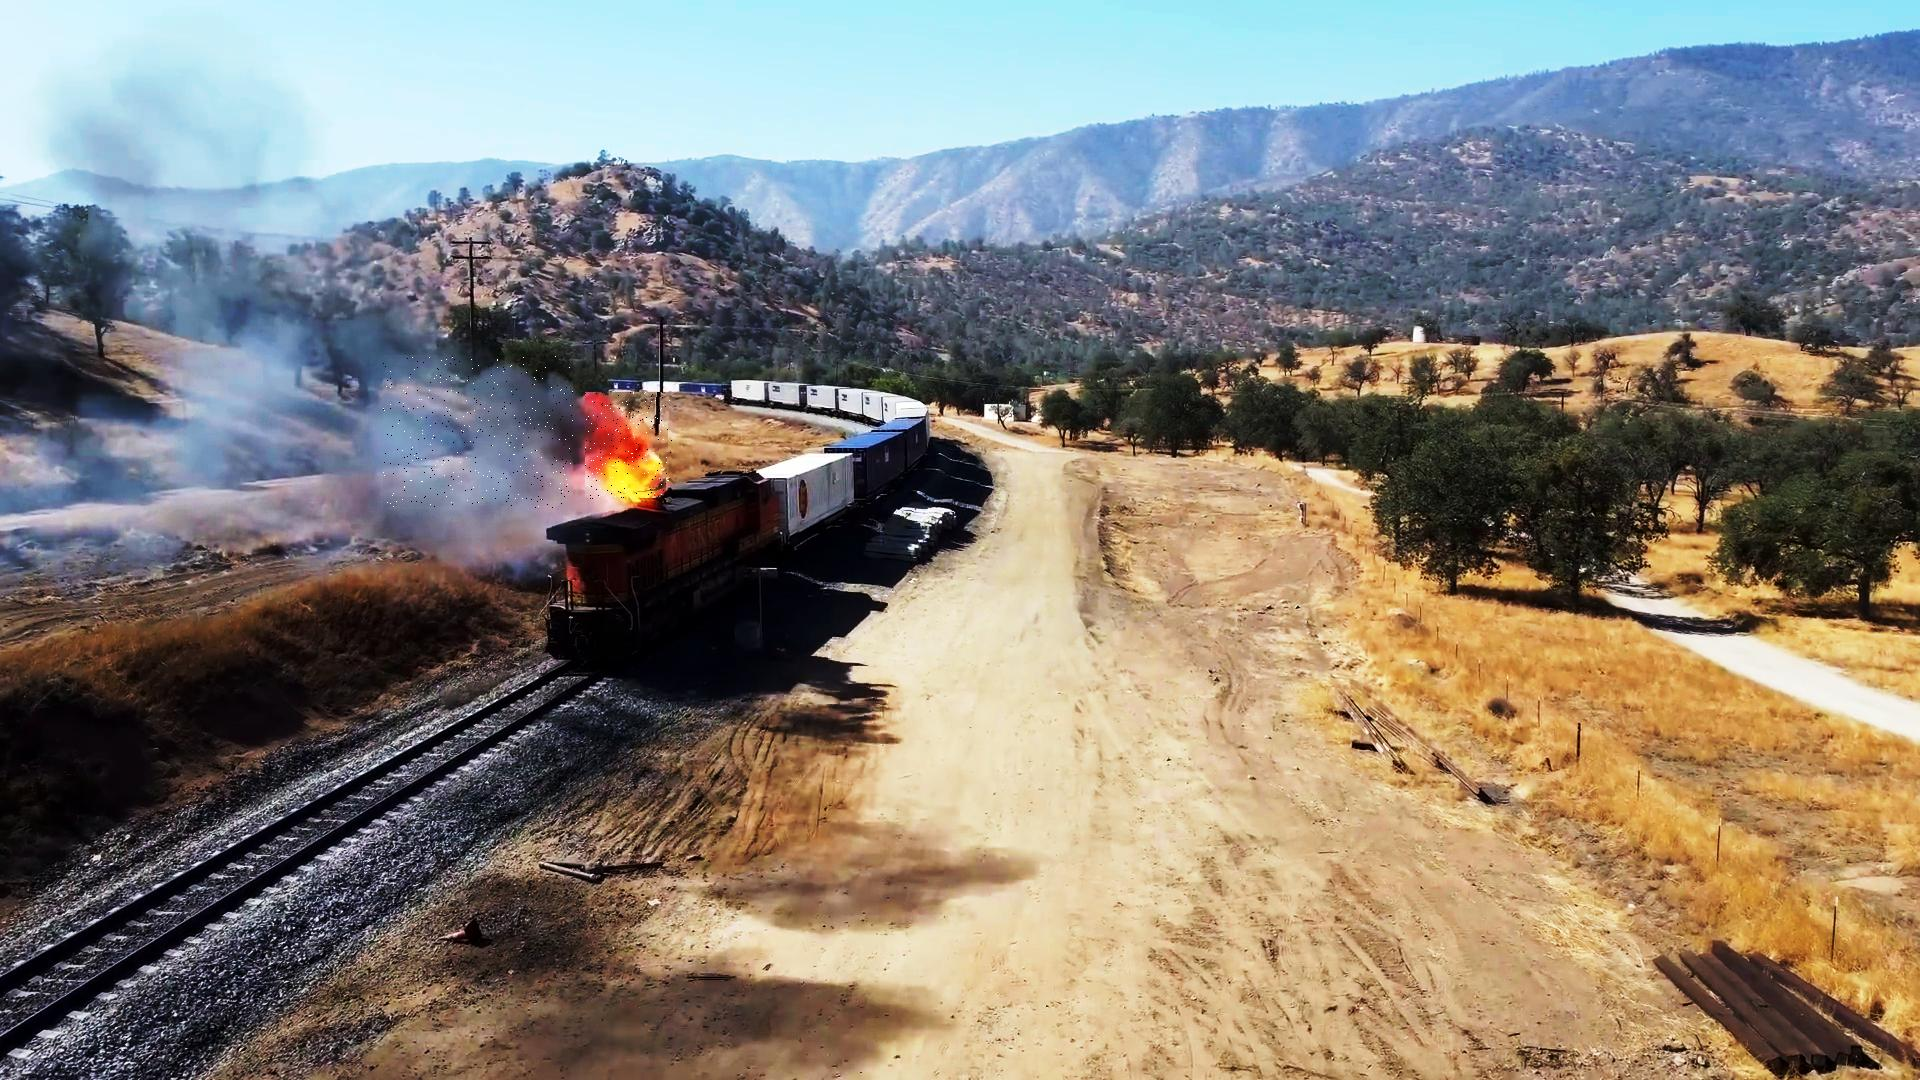fire: (586, 393, 673, 501)
smoke: (383, 356, 573, 509)
